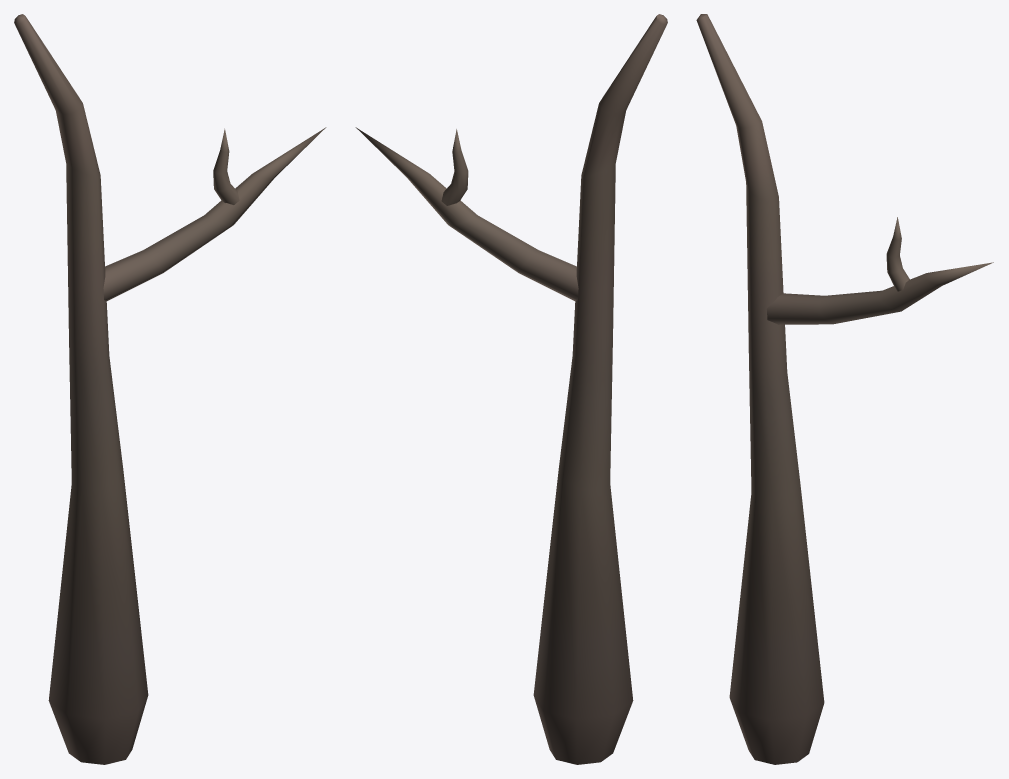
Rendered from h_tree_dead_medium.glb.
3 views of the same model, side by side, from view 1: azimuth 30°, elevation 25°; view 2: azimuth 150°, elevation 25°; view 3: azimuth 330°, elevation 25° (orthographic). The views are drawn at different scales.
Visible parts, largest first — view 1: tree_dead_medium; view 2: tree_dead_medium; view 3: tree_dead_medium.
Boxes of the visible parts, x1,y1,x2,y2 form: tree_dead_medium: [14, 14, 326, 764]; tree_dead_medium: [355, 14, 667, 764]; tree_dead_medium: [696, 14, 993, 764].
Bounding box in the file's own units: 1.81 × 4.19 × 0.4669.
Materials: 1 (1 with a texture image).
